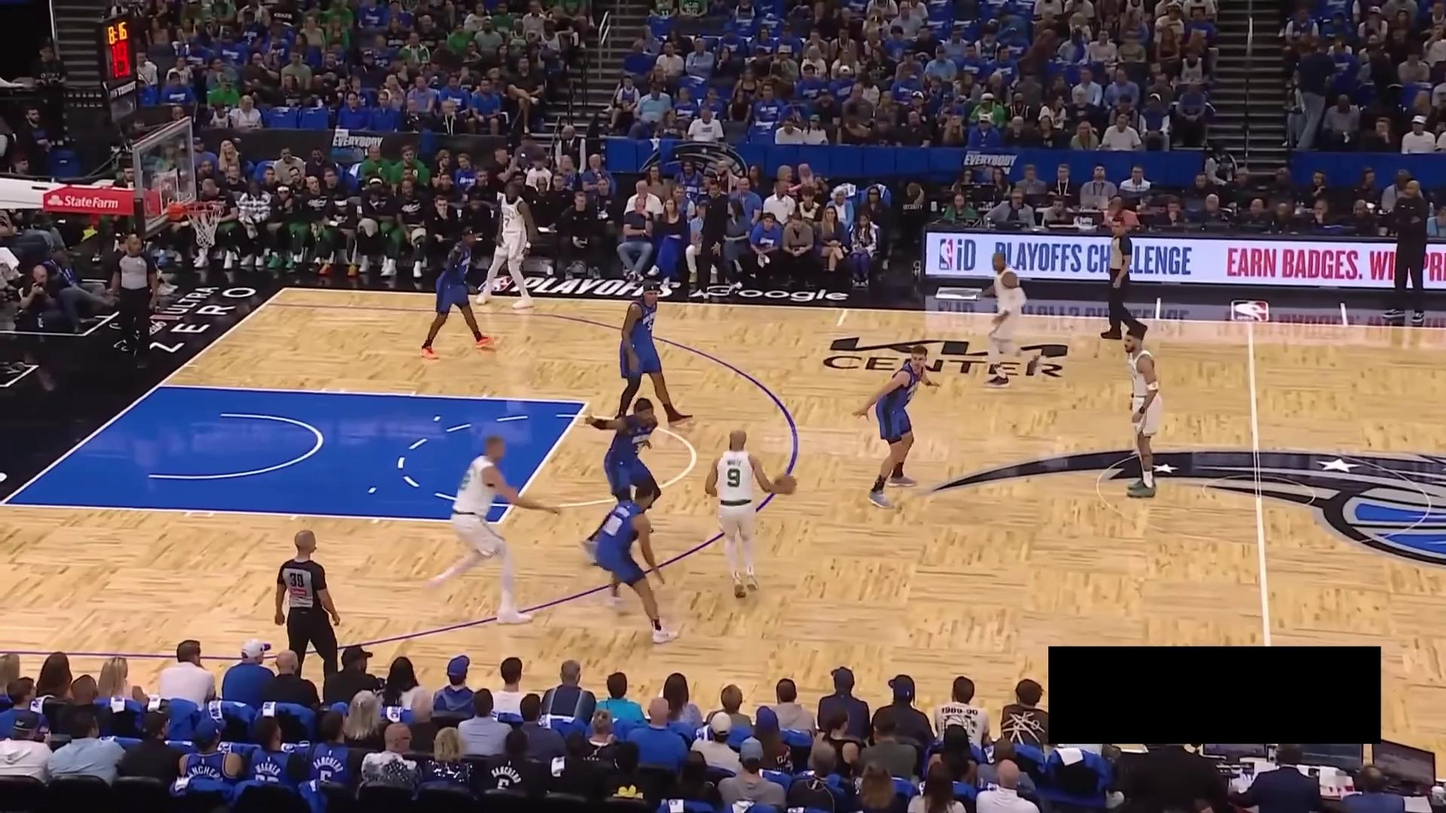ball: (773, 473, 797, 496)
number: (603, 514, 624, 537), (724, 468, 742, 489), (646, 319, 654, 332), (505, 217, 510, 228)
player: (427, 433, 567, 627), (854, 338, 944, 511), (590, 480, 682, 647), (581, 397, 663, 562), (611, 278, 695, 427), (419, 218, 496, 361), (1113, 326, 1167, 502), (979, 246, 1045, 387), (475, 174, 542, 310)
player-in-possession: (705, 427, 803, 600)
referee: (268, 528, 343, 686), (1096, 211, 1152, 345), (110, 229, 163, 363)
rim: (177, 199, 225, 217)
